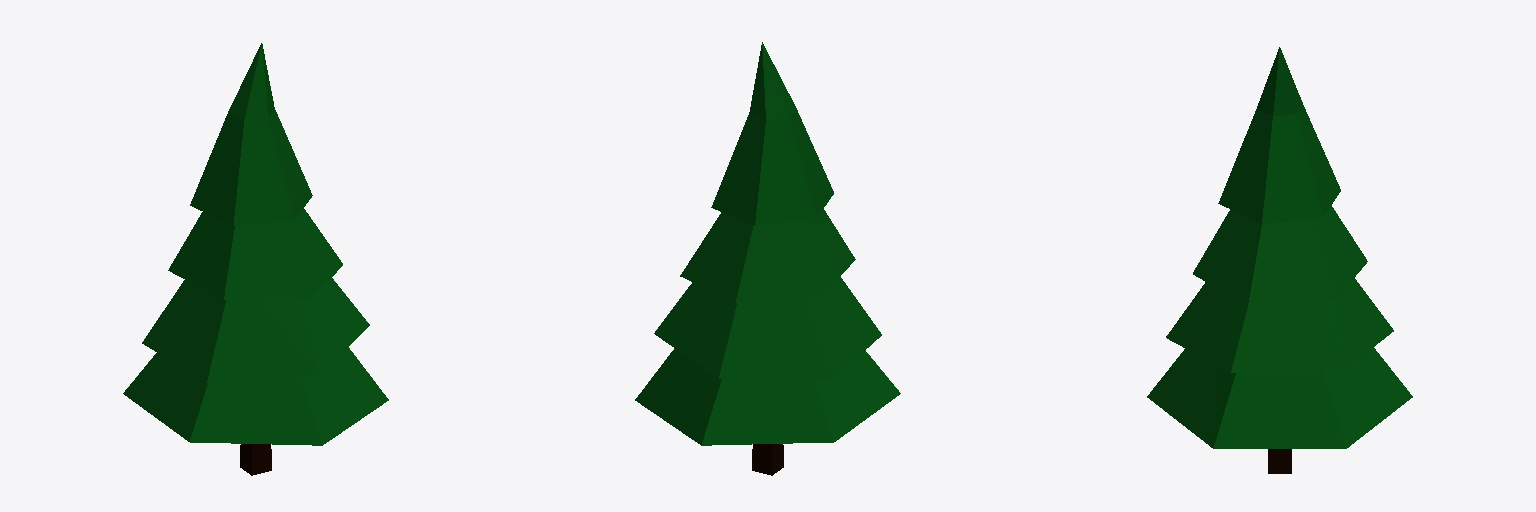
File: PineTree.obj
3 views of the same model, side by side, from view 1: azimuth 30°, elevation 25°; view 2: azimuth 150°, elevation 25°; view 3: azimuth 270°, elevation 25° (orthographic).
Parts seen in each view (by area): view 1: PineTree; view 2: PineTree; view 3: PineTree.
Boxes of the visible parts, x1=… form: PineTree: x1=123, y1=43, x2=388, y2=475; PineTree: x1=635, y1=42, x2=900, y2=475; PineTree: x1=1147, y1=47, x2=1412, y2=473.
Bounding box in the file's own units: 4 × 8.15 × 4.62.